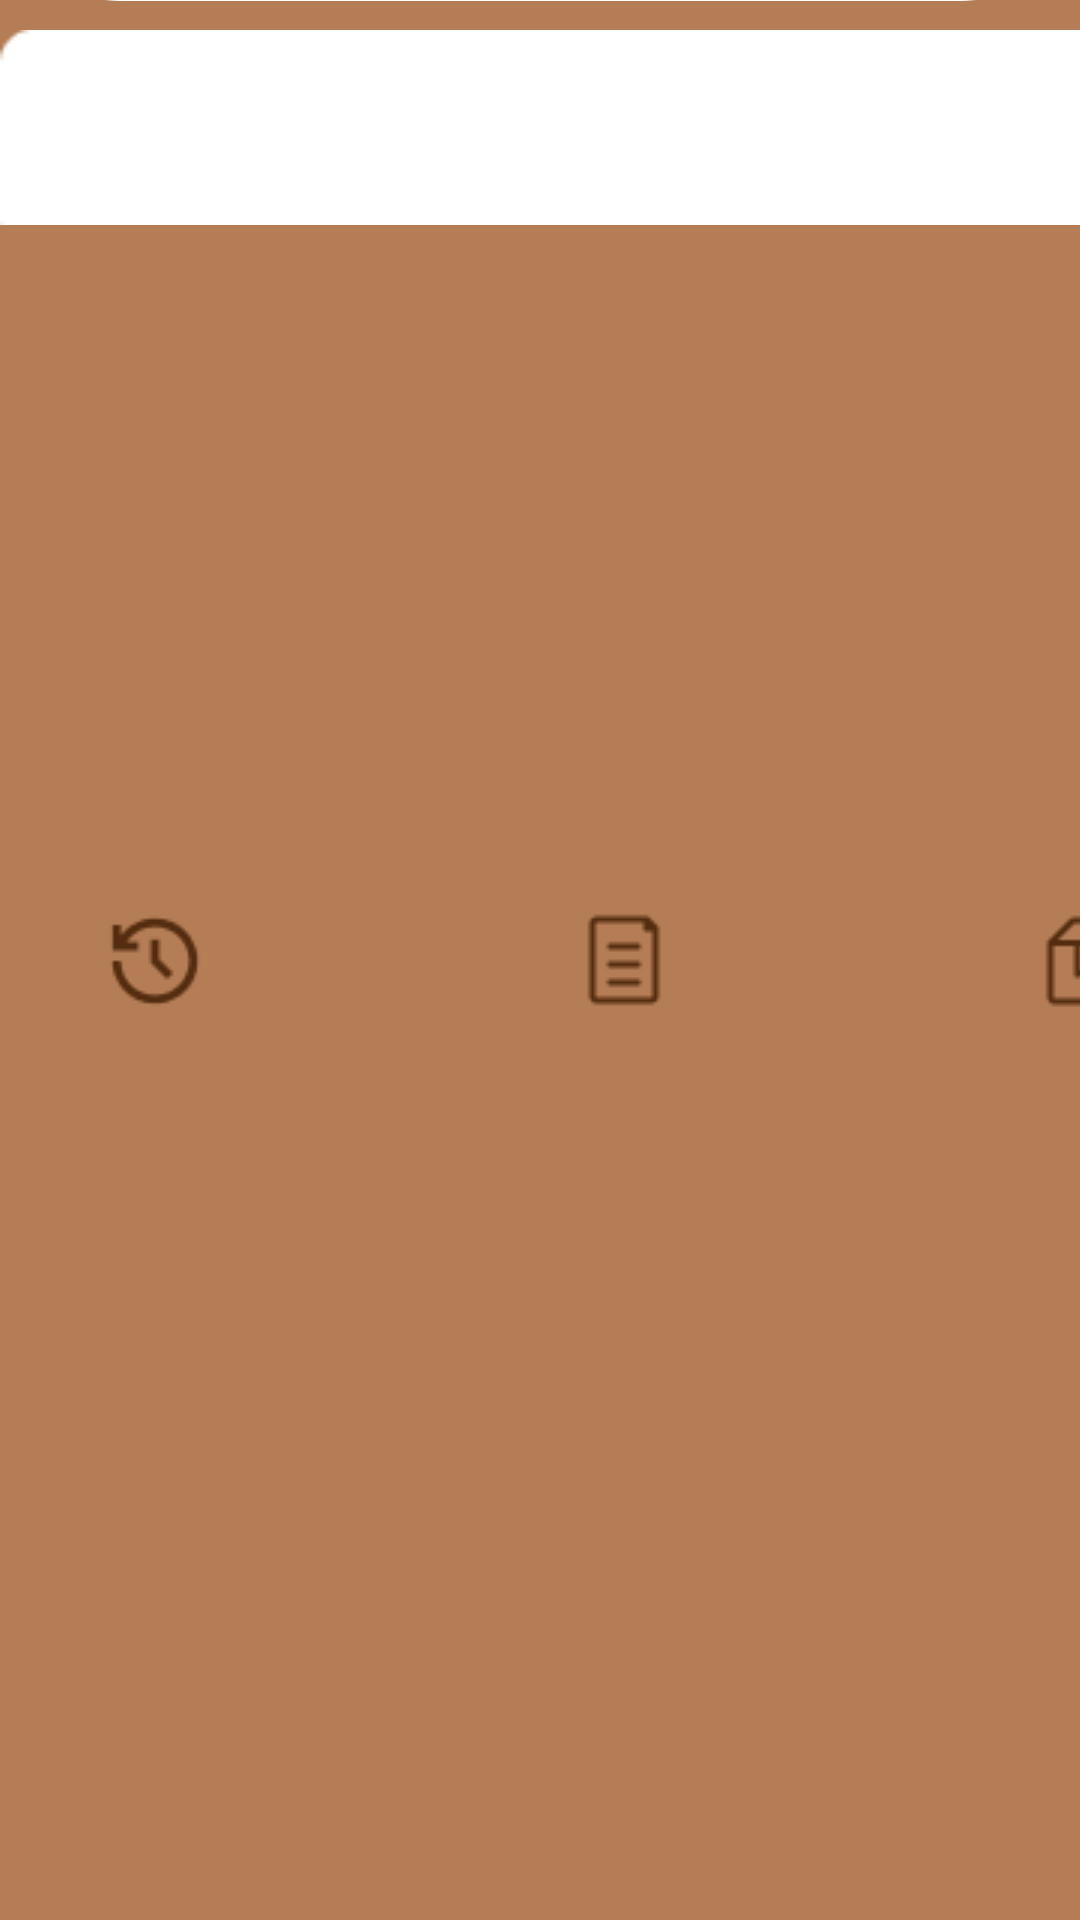

Icon click points for this 1080px×1920px phone screenshot, format point (x, y):
history: point (155, 961)
